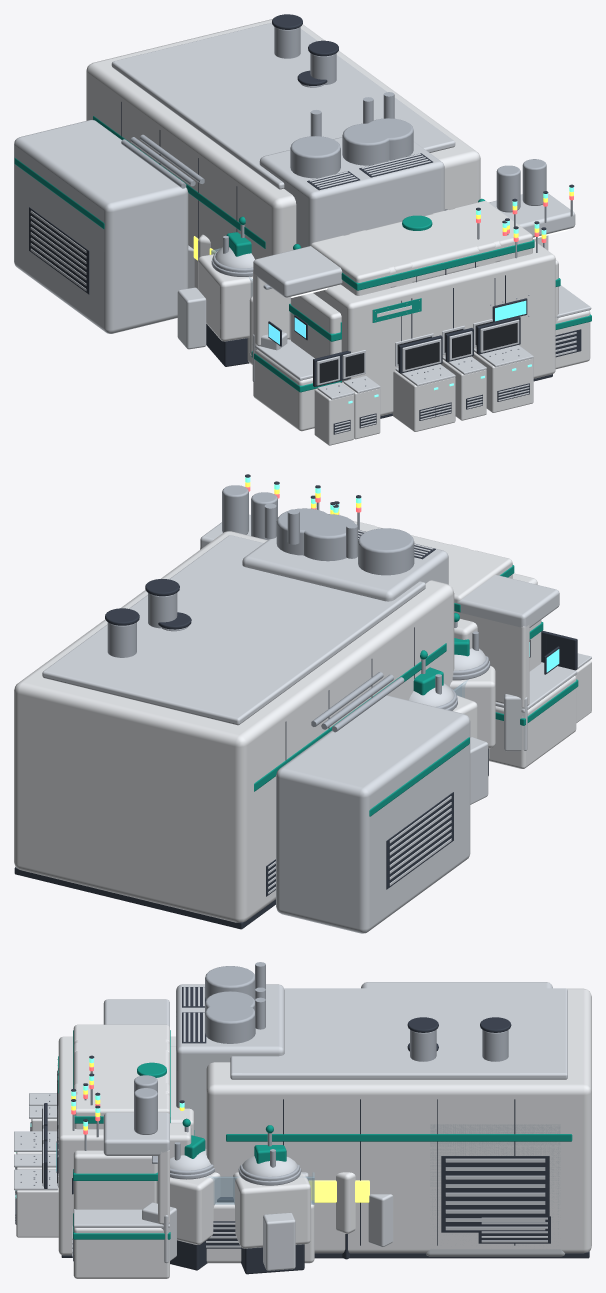
File: tools.glb
3 views of the same model, one above another, from view 1: azimuth 30°, elevation 25°; view 2: azimuth 150°, elevation 25°; view 3: azimuth 270°, elevation 25° (orthographic). The views are drawn at different scales.
Parts seen in each view (by area): view 1: tool_litho_b_body, tool_furnace_a_body, tool_wet_a_body, tool_litho_a_body, tool_dep_b_body, tool_furnace_b_body, tool_wet_b_body, tool_cmp_a_body, tool_dep_a_body, tool_etch_b_body, tool_litho_b_port1_door, tool_wet_a_port0_door (+1 smaller); view 2: tool_litho_b_body, tool_wet_a_body, tool_furnace_a_body, tool_dep_a_body, tool_furnace_b_body, tool_wet_b_body, tool_dep_b_body, tool_etch_b_body, tool_cmp_a_body, tool_etch_a_body; view 3: tool_litho_b_body, tool_furnace_a_body, tool_implant_a_body, tool_wet_a_body, tool_dep_a_body, tool_cmp_a_body, tool_dep_b_body, tool_furnace_b_body, tool_wet_b_body, tool_litho_a_body, tool_etch_b_body, tool_etch_a_body.
Boxes of the visible parts, x1,y1,x2,y2 form: tool_litho_b_body: [14, 14, 555, 431]; tool_furnace_a_body: [259, 92, 534, 295]; tool_wet_a_body: [251, 159, 591, 445]; tool_litho_a_body: [297, 70, 532, 427]; tool_dep_b_body: [177, 216, 254, 366]; tool_furnace_b_body: [333, 97, 495, 286]; tool_wet_b_body: [282, 165, 565, 439]; tool_cmp_a_body: [211, 227, 560, 372]; tool_dep_a_body: [188, 198, 519, 425]; tool_etch_b_body: [213, 232, 253, 272]; tool_litho_b_port1_door: [449, 331, 472, 360]; tool_wet_a_port0_door: [316, 356, 339, 385]; tool_litho_b_body: [14, 495, 537, 933]; tool_wet_a_body: [200, 474, 591, 768]; tool_furnace_a_body: [242, 485, 514, 612]; tool_dep_a_body: [330, 502, 527, 775]; tool_furnace_b_body: [270, 495, 469, 586]; tool_wet_b_body: [247, 481, 547, 761]; tool_dep_b_body: [409, 650, 488, 804]; tool_etch_b_body: [413, 667, 456, 709]; tool_cmp_a_body: [454, 620, 543, 758]; tool_etch_a_body: [453, 631, 488, 675]; tool_litho_b_body: [14, 982, 591, 1258]; tool_furnace_a_body: [73, 962, 284, 1148]; tool_implant_a_body: [83, 1046, 564, 1256]; tool_wet_a_body: [29, 999, 170, 1278]; tool_dep_a_body: [29, 1083, 393, 1270]; tool_cmp_a_body: [29, 1119, 314, 1263]; tool_dep_b_body: [233, 1125, 310, 1274]; tool_furnace_b_body: [73, 987, 284, 1098]; tool_wet_b_body: [29, 1012, 169, 1225]; tool_litho_a_body: [14, 1043, 438, 1206]; tool_etch_b_body: [239, 1145, 299, 1181]; tool_etch_a_body: [170, 1135, 213, 1174].
Size of the model in its own units: 6.89 by 4.15 by 9.59.
